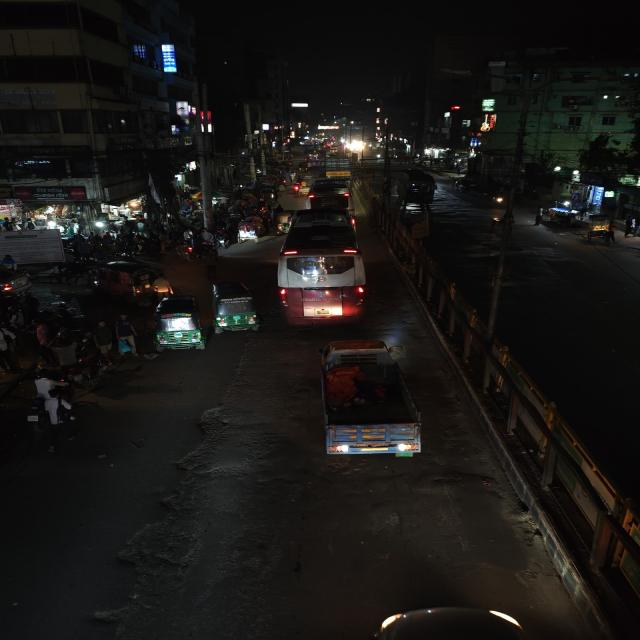bus: (274, 207, 368, 327), (305, 177, 354, 208), (401, 168, 439, 206)
car: (350, 600, 571, 640), (0, 264, 36, 298)
cng: (148, 296, 206, 352), (209, 280, 259, 334), (96, 261, 163, 297)
motorcycle: (171, 238, 200, 262)
pedestrian: (112, 314, 140, 359), (42, 389, 77, 425)
pickup_van: (307, 337, 426, 464)
rickshaw: (581, 217, 619, 245), (234, 219, 261, 243)
truck: (322, 156, 354, 178)
